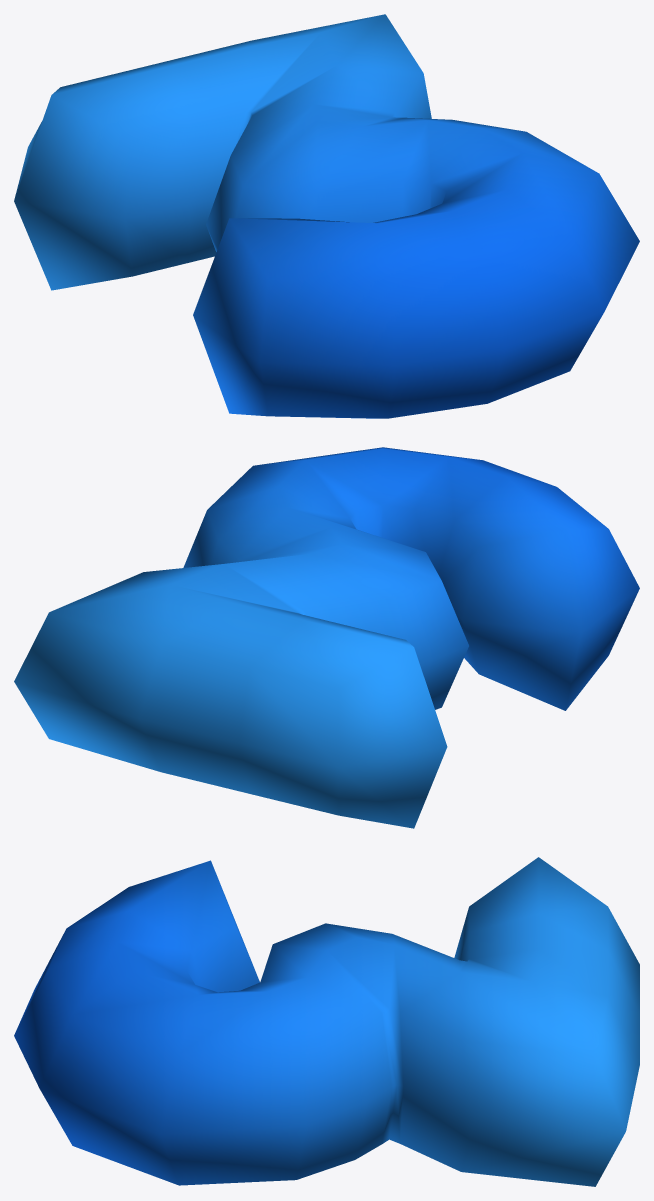
The model's file is CartoonFont_3.FBX.
3 renders of one model, top to bottom at view 1: azimuth 30°, elevation 25°; view 2: azimuth 150°, elevation 25°; view 3: azimuth 270°, elevation 25°, orthographic. The views are drawn at different scales.
Visible parts, largest first — view 1: 3; view 2: 3; view 3: 3.
Boxes of the visible parts, box(x1,y1,x2,y2) form: 3: box(14, 14, 639, 418); 3: box(14, 447, 639, 828); 3: box(14, 857, 639, 1186).
Bounding box in the file's own units: 22.55 × 9.83 × 29.7.
1 material, 1 textured.
